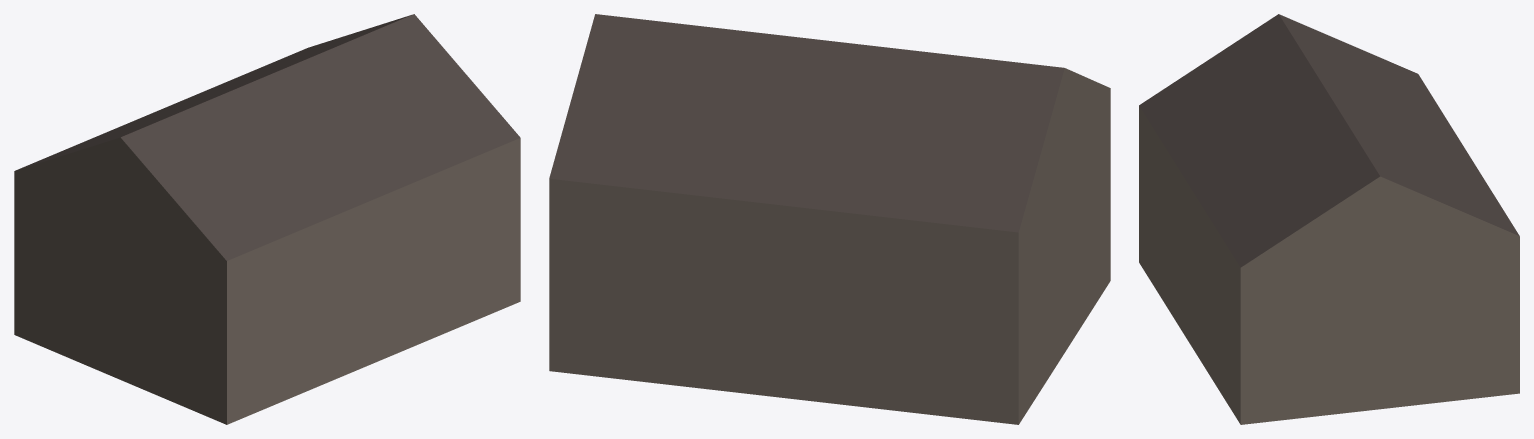
3 renders of one model, left to right at view 1: azimuth 30°, elevation 25°; view 2: azimuth 150°, elevation 25°; view 3: azimuth 270°, elevation 25°, orthographic. The views are drawn at different scales.
Parts seen in each view (by area): view 1: HP-w1198723270; view 2: HP-w1198723270; view 3: HP-w1198723270.
Boxes of the visible parts, <box> form: HP-w1198723270: <box>14,14,520,424</box>; HP-w1198723270: <box>549,14,1110,424</box>; HP-w1198723270: <box>1139,14,1519,424</box>.
Bounding box in the file's own units: 15.86 × 8.88 × 13.17.
